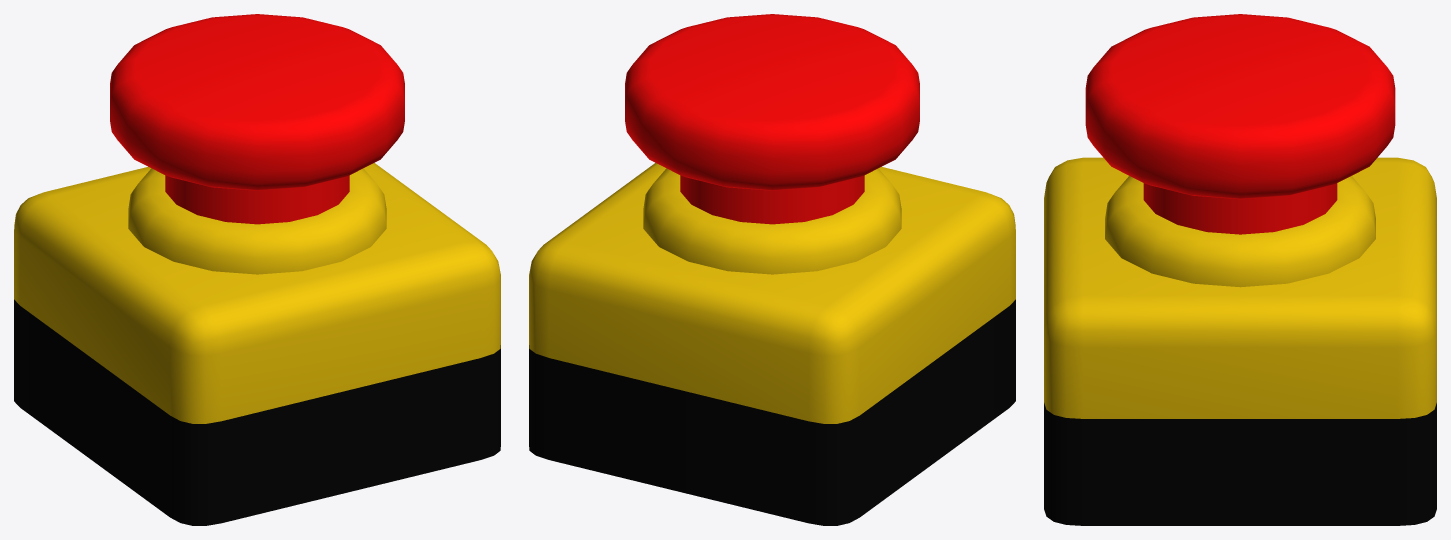
The model's file is Button.fbx.
3 views of the same model, side by side, from view 1: azimuth 30°, elevation 25°; view 2: azimuth 150°, elevation 25°; view 3: azimuth 270°, elevation 25° (orthographic). The views are drawn at different scales.
Parts seen in each view (by area): view 1: ButtonFrame2, ButtonFrame1, TopButton, ButtonFrame3, BotomButton; view 2: ButtonFrame2, ButtonFrame1, TopButton, ButtonFrame3, BotomButton; view 3: ButtonFrame2, TopButton, ButtonFrame1, ButtonFrame3, BotomButton.
Boxes of the visible parts, x1=… form: ButtonFrame2: x1=14, y1=163, x2=500, y2=423; ButtonFrame1: x1=14, y1=299, x2=500, y2=525; TopButton: x1=110, y1=14, x2=404, y2=190; ButtonFrame3: x1=128, y1=168, x2=386, y2=274; BotomButton: x1=165, y1=175, x2=349, y2=224; ButtonFrame2: x1=529, y1=163, x2=1015, y2=423; ButtonFrame1: x1=529, y1=299, x2=1015, y2=525; TopButton: x1=625, y1=14, x2=919, y2=190; ButtonFrame3: x1=643, y1=168, x2=901, y2=274; BotomButton: x1=680, y1=175, x2=864, y2=224; ButtonFrame2: x1=1044, y1=157, x2=1436, y2=418; TopButton: x1=1085, y1=14, x2=1395, y2=199; ButtonFrame1: x1=1044, y1=403, x2=1436, y2=525; ButtonFrame3: x1=1105, y1=176, x2=1375, y2=287; BotomButton: x1=1143, y1=183, x2=1337, y2=234.
Bounding box in the file's own units: 19.69 × 20.56 × 19.69.
